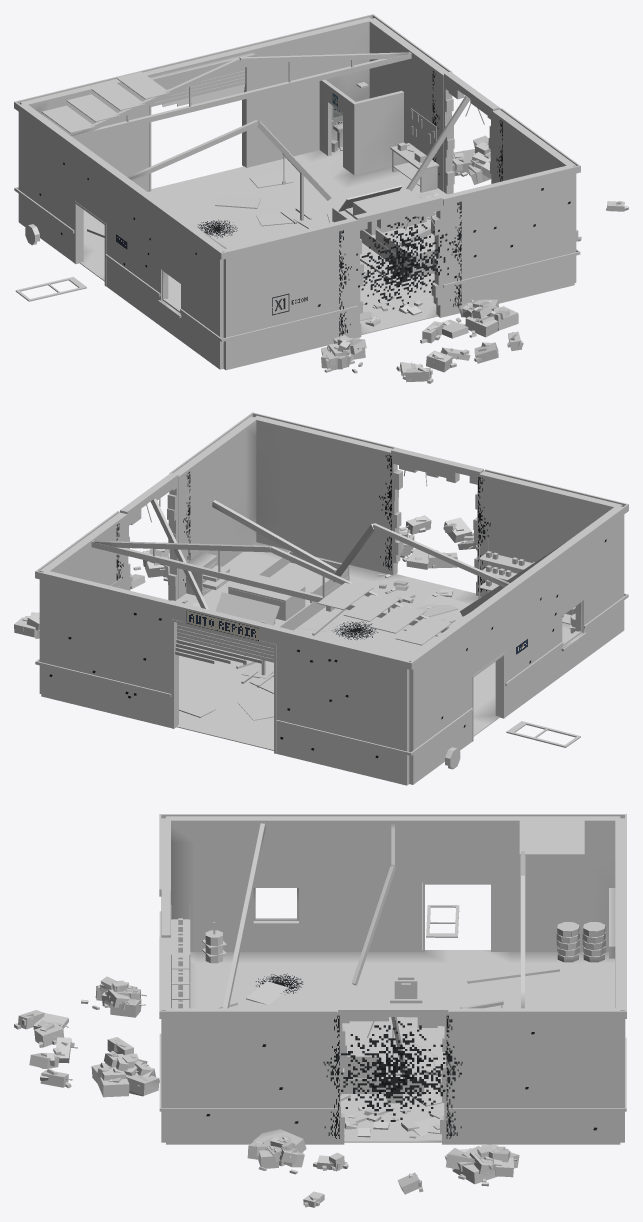
Rendered from garage.glb.
3 renders of one model, top to bottom at view 1: azimuth 30°, elevation 25°; view 2: azimuth 150°, elevation 25°; view 3: azimuth 270°, elevation 25°, orthographic. The views are drawn at different scales.
Visible parts, largest first — view 1: garage; view 2: garage; view 3: garage.
Part boxes in pixels (left/top/right/bottom): garage: left=14, top=14, right=628, bottom=383; garage: left=14, top=412, right=628, bottom=785; garage: left=14, top=814, right=626, bottom=1207.
Size of the model in its own units: 21.89 by 6 by 18.96.
3 materials, 2 textured.
